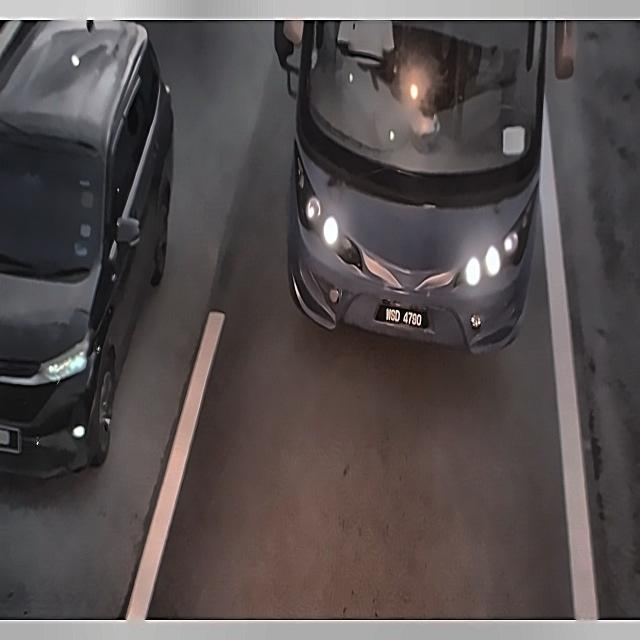car: (376, 302, 428, 335), (1, 419, 22, 454)
